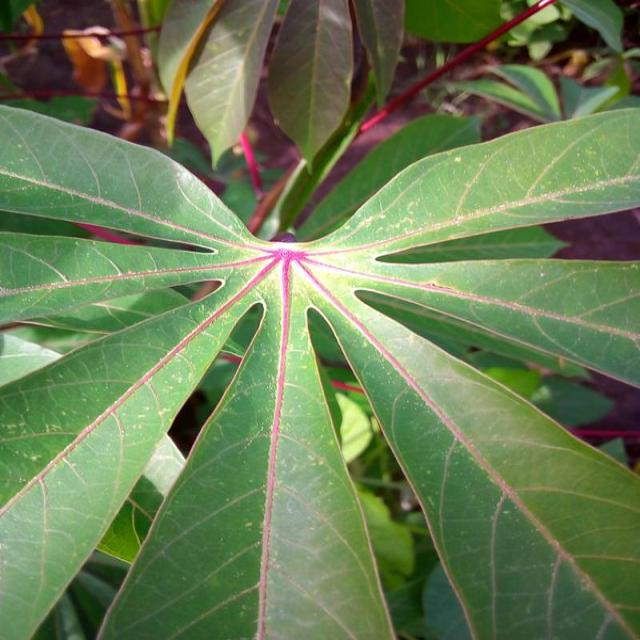cassava leaf: (0, 95, 638, 638)
